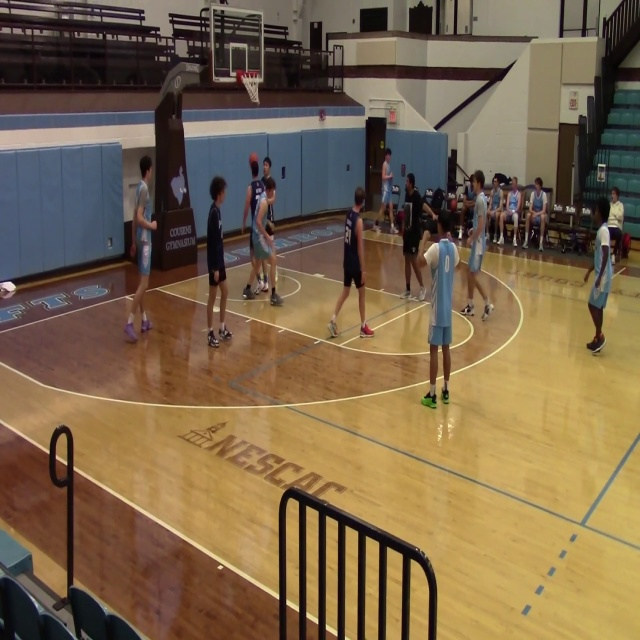Basketball: (424, 240, 459, 270), (424, 243, 439, 269), (0, 281, 16, 293), (249, 152, 258, 163), (129, 244, 136, 258), (391, 185, 400, 194)
